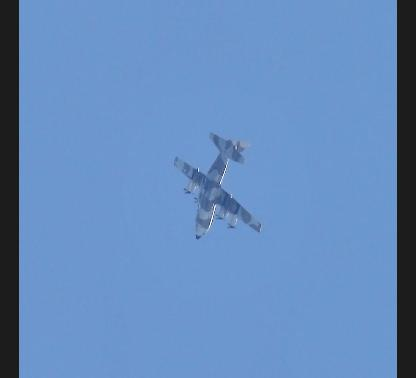Be200: (174, 132, 262, 240)
